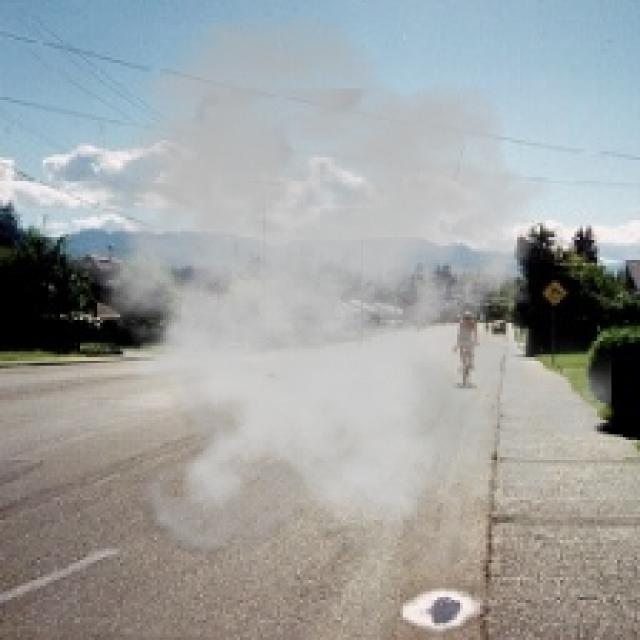smoke: (43, 11, 611, 566)
